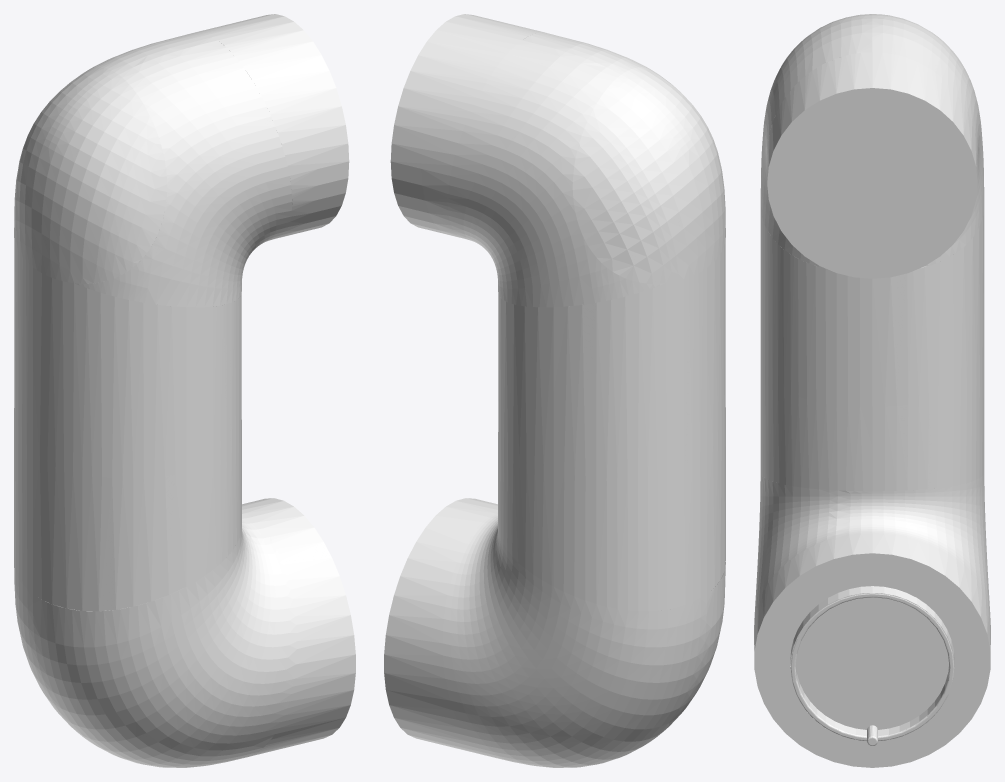
3 renders of one model, left to right at view 1: azimuth 30°, elevation 25°; view 2: azimuth 150°, elevation 25°; view 3: azimuth 270°, elevation 25°, orthographic. The views are drawn at different scales.
Visible parts, largest first — view 1: Link4; view 2: Link4; view 3: Link4.
Boxes of the visible parts, x1=… form: Link4: x1=14, y1=14, x2=355, y2=767; Link4: x1=384, y1=14, x2=725, y2=767; Link4: x1=754, y1=14, x2=990, y2=767.
Bounding box in the file's own units: 0.0578 × 0.0432 × 0.1368.
1 material, 1 textured.
